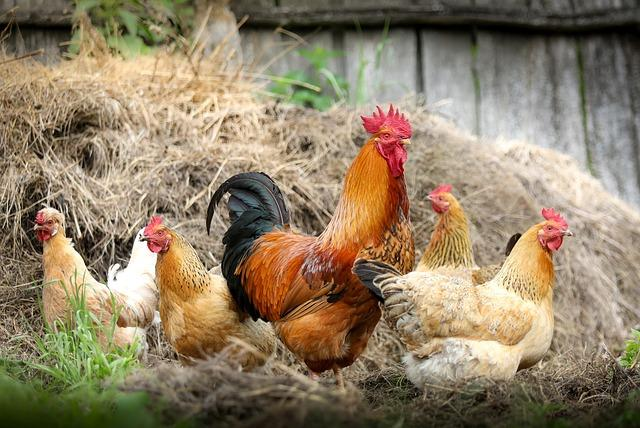Non_Gorille: (8, 10, 640, 428)
